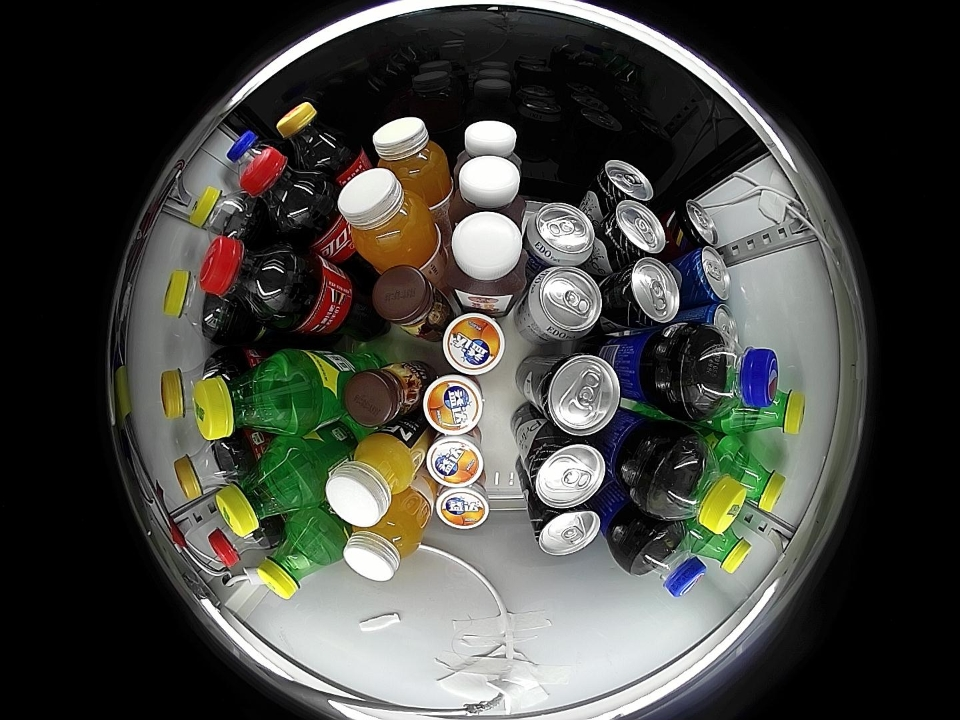baishikele: (649, 437, 748, 533), (164, 271, 231, 340), (191, 186, 256, 242)
baishikele-2: (679, 324, 779, 424), (629, 522, 708, 598), (225, 129, 279, 175)
kele-b: (200, 238, 299, 326), (239, 148, 328, 234), (207, 522, 261, 568)
kele-b-2: (276, 101, 350, 169), (173, 438, 242, 500), (161, 353, 226, 418)
lujikafei: (372, 266, 451, 340), (343, 359, 422, 427)
nfc: (325, 432, 420, 527)
qingdaowangzi-1: (535, 353, 622, 436), (525, 433, 608, 509), (609, 258, 681, 328), (601, 200, 667, 261), (531, 502, 602, 556), (593, 160, 654, 208), (669, 199, 720, 250)
qingdaowangzi-2: (679, 247, 732, 306), (698, 303, 739, 353)
rusuanjunqishui: (525, 266, 603, 341), (525, 203, 596, 267)
weic: (338, 168, 442, 268), (342, 493, 430, 582), (372, 116, 452, 202)
xuebi-b: (192, 352, 303, 441), (214, 448, 304, 537), (256, 519, 336, 600), (724, 441, 787, 514), (738, 382, 806, 436), (692, 519, 752, 575)
yida: (441, 313, 505, 375), (423, 373, 484, 435), (425, 434, 485, 488), (434, 484, 490, 530)
youyanggudong: (447, 211, 526, 307), (455, 154, 524, 221), (457, 120, 520, 168)
